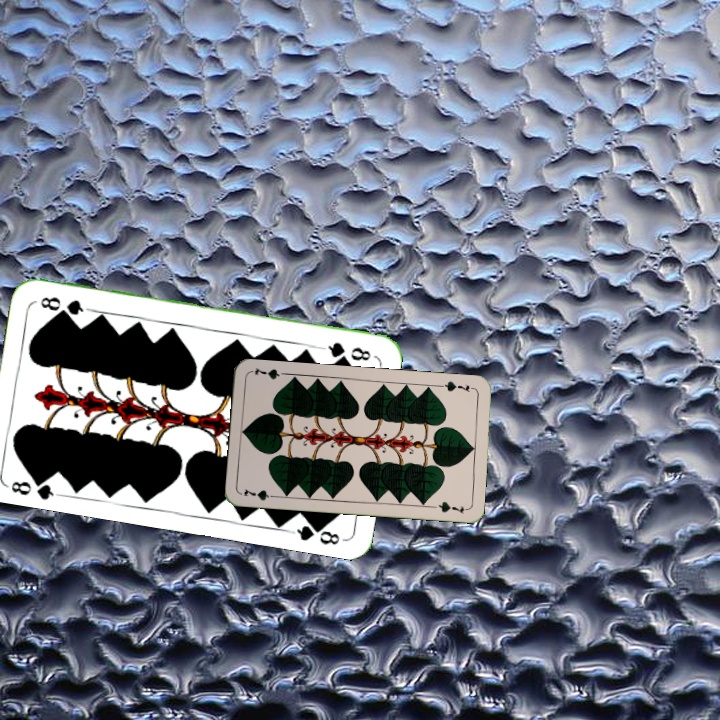G7: (436, 377, 477, 395), (240, 485, 280, 503)
G8: (1, 471, 60, 502), (317, 338, 373, 364)
